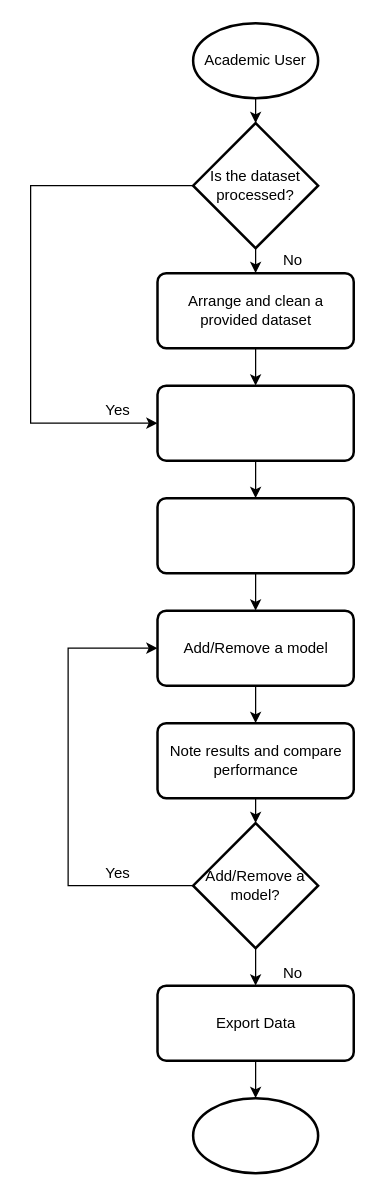
Some shapes in this 376 by 1195 pixel diagram are drawn without their labels. The shapes that lost their labels are listed below. From the top down, each one's centre as x and y in pixels, then its label:
[255,422]: Load the solution
[255,535]: Visualise dataset
[255,1135]: End
